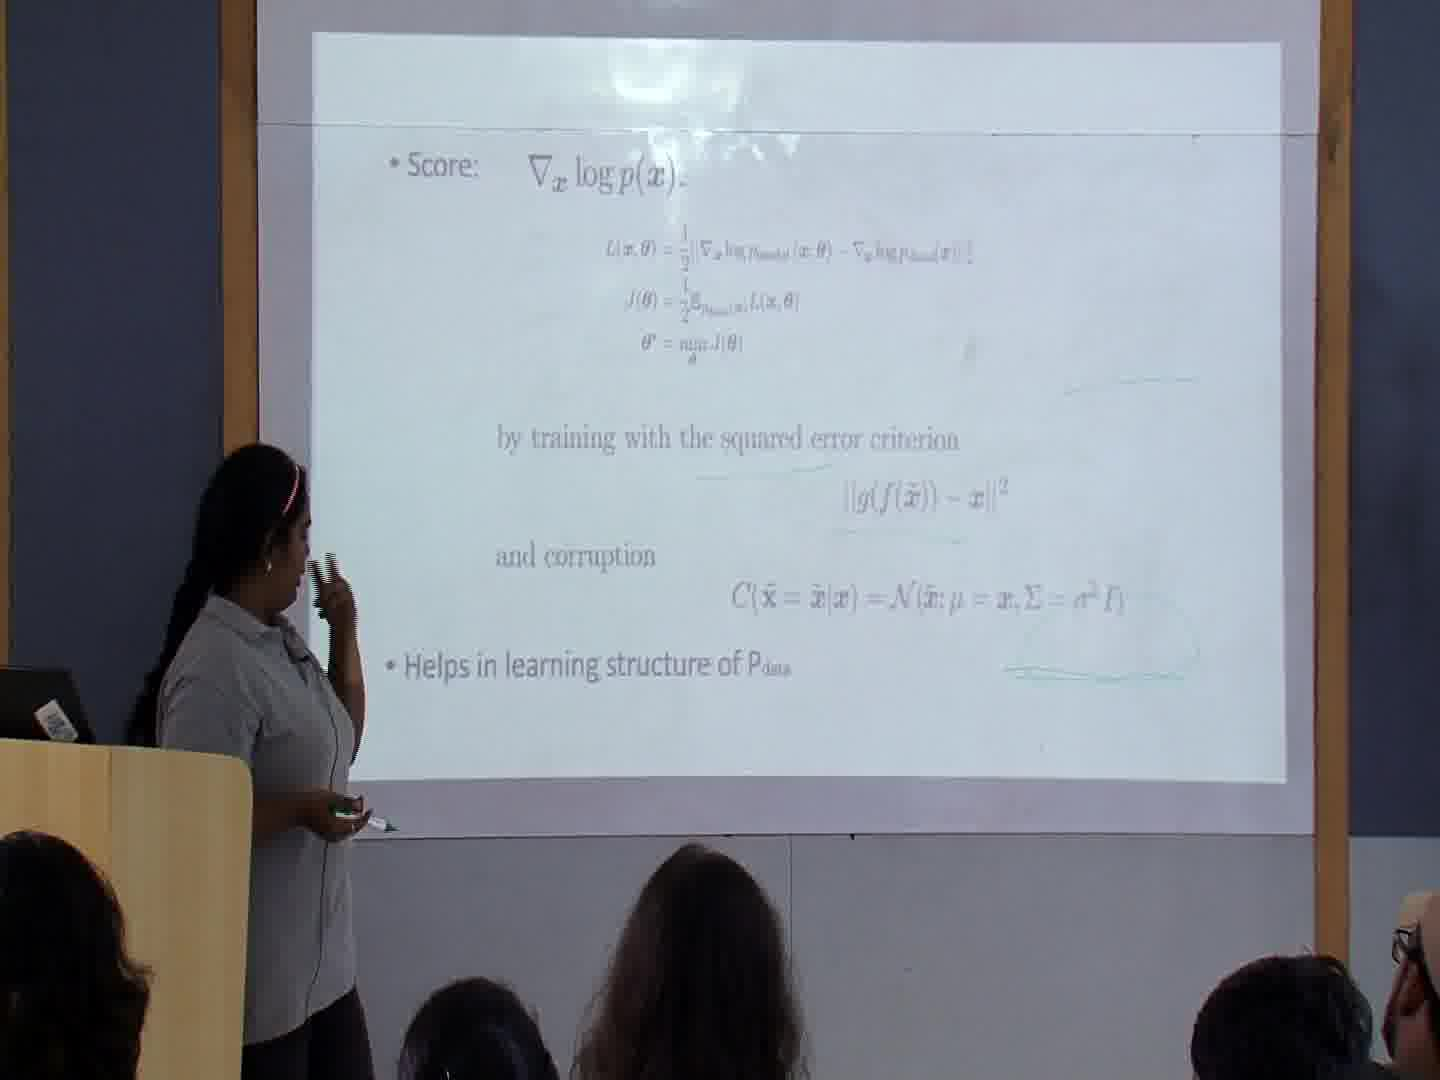eq: (723, 569, 1130, 623), (603, 223, 977, 273), (527, 144, 687, 205), (839, 471, 1014, 520), (626, 277, 804, 324), (637, 329, 748, 369)
